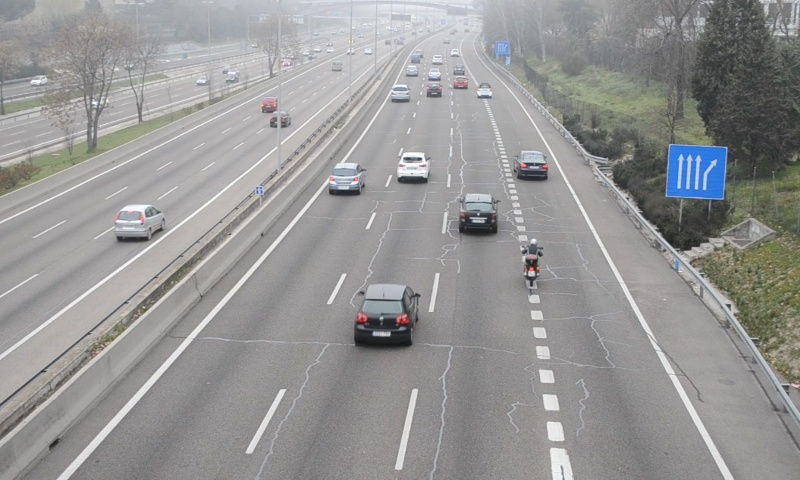car: (356, 284, 416, 341), (458, 192, 498, 232), (327, 163, 362, 193), (515, 150, 548, 180), (398, 152, 430, 180), (390, 84, 411, 104), (478, 81, 494, 99), (425, 80, 441, 97)
motorcycle: (520, 237, 545, 288)
